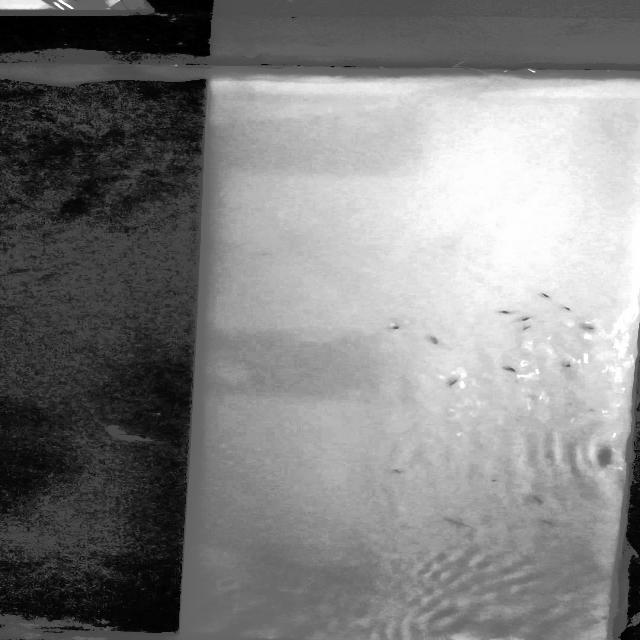shrimp: (440, 513, 477, 528), (439, 377, 471, 390), (558, 303, 582, 315), (524, 517, 555, 526), (511, 313, 543, 321), (426, 334, 446, 346), (386, 320, 409, 330), (389, 468, 409, 479), (539, 290, 556, 301), (530, 497, 548, 507), (502, 365, 524, 373), (563, 359, 577, 371), (517, 325, 540, 332), (575, 324, 597, 331), (493, 308, 517, 314)
